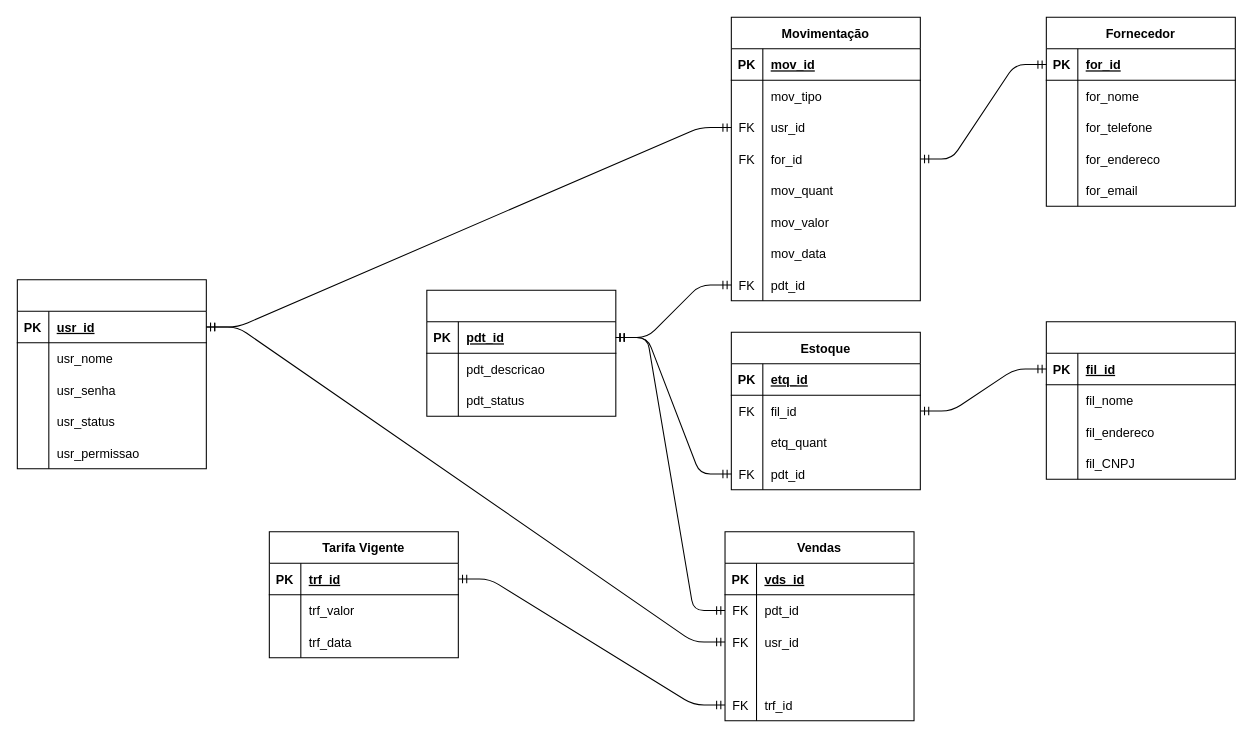
The diagram is 1253 pixels wide and 738 high, and some of its shapes have lost their labels. Here are the shapes that lost their labels. From the top down, the box of each, then its label:
(426, 289, 616, 416): Produto
(16, 279, 206, 469): Usuario
(1045, 321, 1235, 479): Filial
